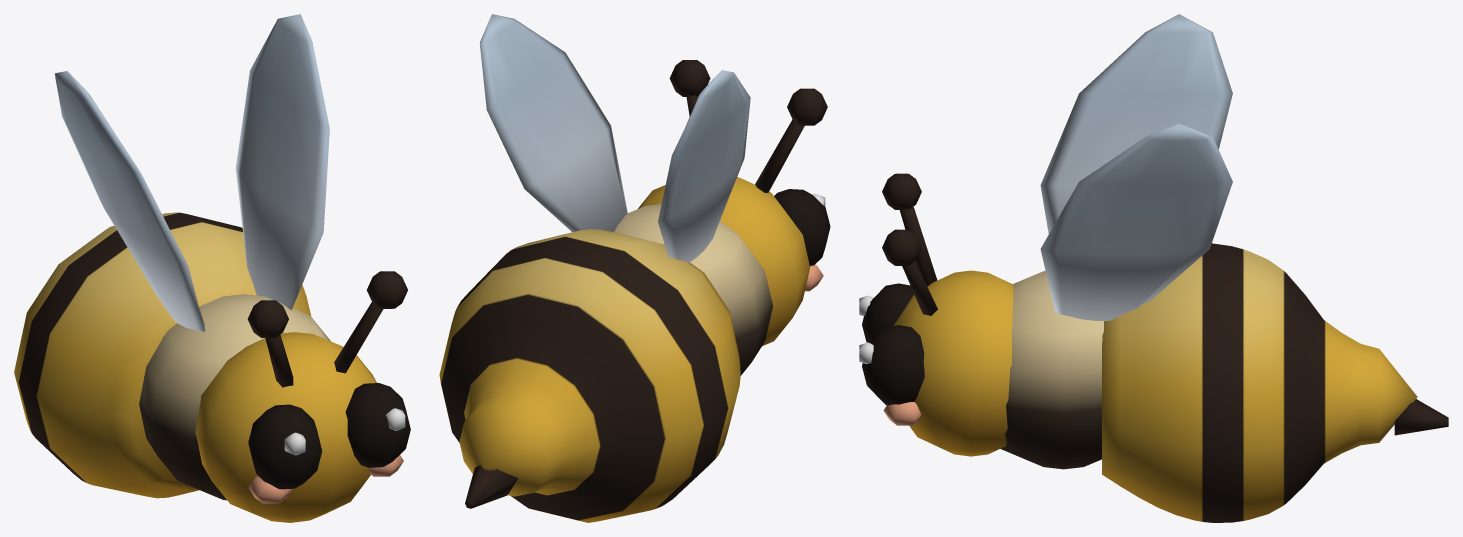
Rendered from bee.glb.
3 renders of one model, left to right at view 1: azimuth 30°, elevation 25°; view 2: azimuth 150°, elevation 25°; view 3: azimuth 270°, elevation 25°, orthographic. The views are drawn at different scales.
Visible parts, largest first — view 1: bee_body, wing_r_mesh, wing_l_mesh; view 2: bee_body, wing_r_mesh, wing_l_mesh; view 3: bee_body, wing_r_mesh, wing_l_mesh.
Part boxes in pixels (x1,y1,x2,y2): bee_body: (14, 212, 410, 522); wing_r_mesh: (235, 14, 329, 310); wing_l_mesh: (55, 71, 205, 331); bee_body: (439, 60, 830, 522); wing_r_mesh: (479, 14, 627, 231); wing_l_mesh: (658, 70, 750, 262); bee_body: (859, 173, 1448, 522); wing_r_mesh: (1040, 123, 1232, 320); wing_l_mesh: (1040, 14, 1232, 233).
Size of the model in its own units: 0.196 by 0.314 by 0.3826.
